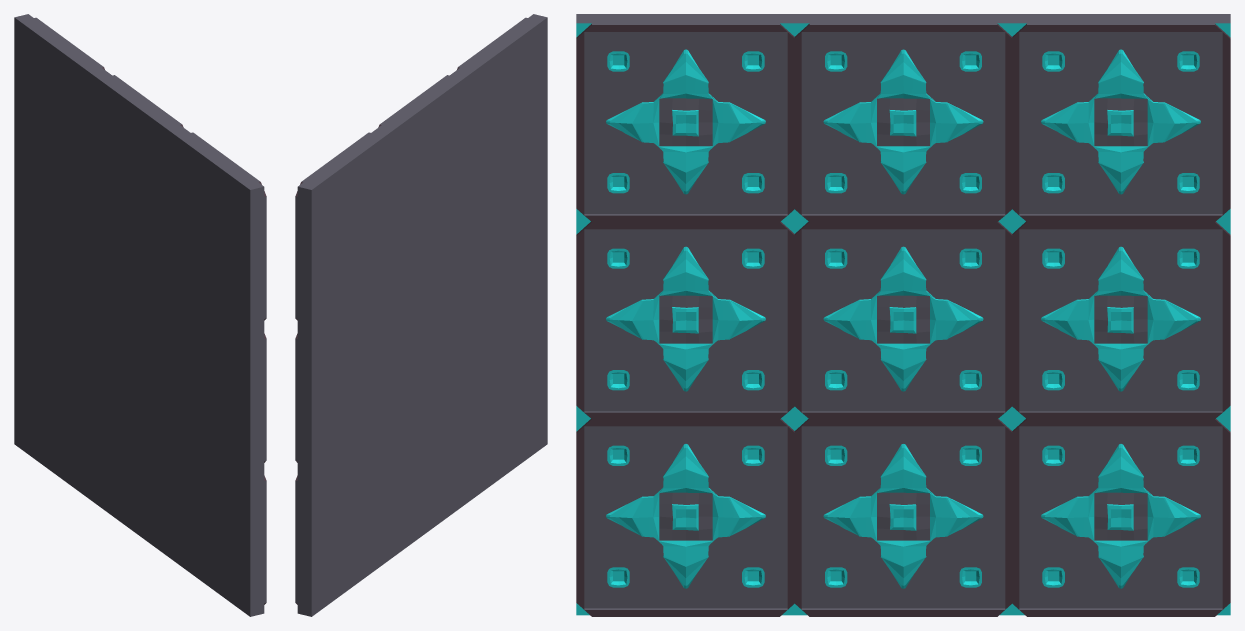
The model's file is SpockPlacer_Cave.fbx.
3 views of the same model, side by side, from view 1: azimuth 30°, elevation 25°; view 2: azimuth 150°, elevation 25°; view 3: azimuth 270°, elevation 25° (orthographic). The views are drawn at different scales.
Parts seen in each view (by area): view 1: Spock Placer_Cave; view 2: Spock Placer_Cave; view 3: Spock Placer_Cave.
Boxes of the visible parts, x1,y1,x2,y2 form: Spock Placer_Cave: (14, 14, 266, 616); Spock Placer_Cave: (295, 14, 547, 616); Spock Placer_Cave: (576, 14, 1230, 616).
Size of the model in its own units: 19.16 by 451 by 450.
